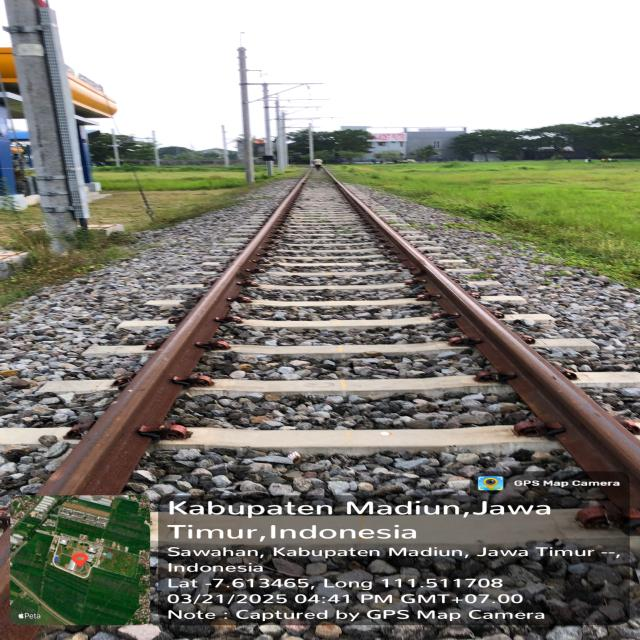rail-detection: (335, 181, 640, 505), (40, 181, 303, 495)
